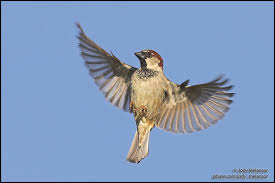hsparrow: (70, 16, 237, 165)
